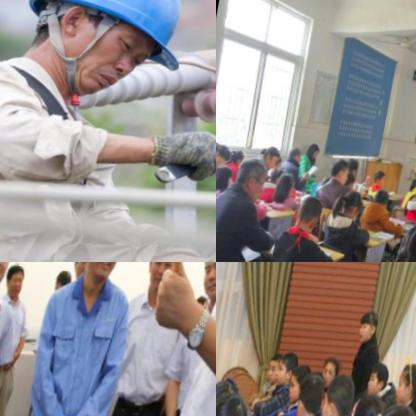head: (230, 154, 270, 208), (315, 375, 357, 416), (288, 195, 323, 242), (388, 363, 416, 416), (268, 355, 299, 400), (292, 377, 327, 416), (361, 364, 391, 408), (334, 389, 382, 416), (280, 367, 308, 413), (216, 384, 254, 416), (333, 187, 364, 225), (391, 222, 416, 262), (260, 351, 283, 394), (354, 312, 379, 351), (315, 356, 339, 394), (272, 171, 298, 205), (256, 141, 282, 174), (327, 158, 351, 193), (216, 158, 236, 197), (263, 162, 285, 190), (282, 145, 303, 172), (341, 155, 361, 183), (216, 139, 231, 169), (369, 170, 388, 193), (371, 189, 390, 211), (302, 142, 320, 165), (228, 148, 245, 170), (340, 173, 356, 195), (404, 389, 416, 416)
helmet: (0, 0, 213, 118)
